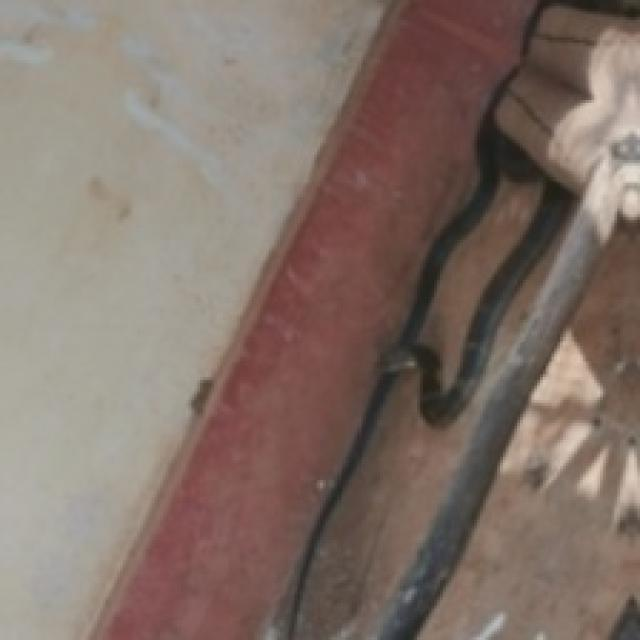king cobra: (271, 3, 637, 637)
